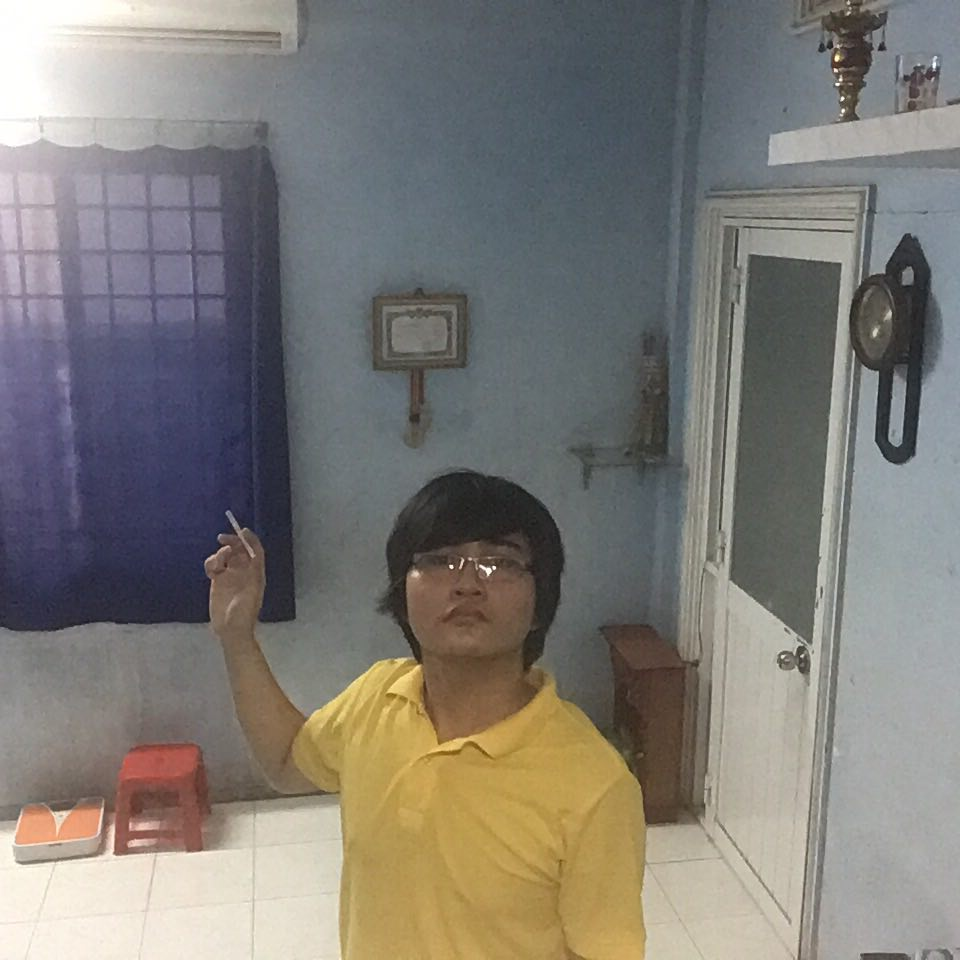cigarette: (222, 506, 244, 535)
person: (210, 461, 647, 960)
